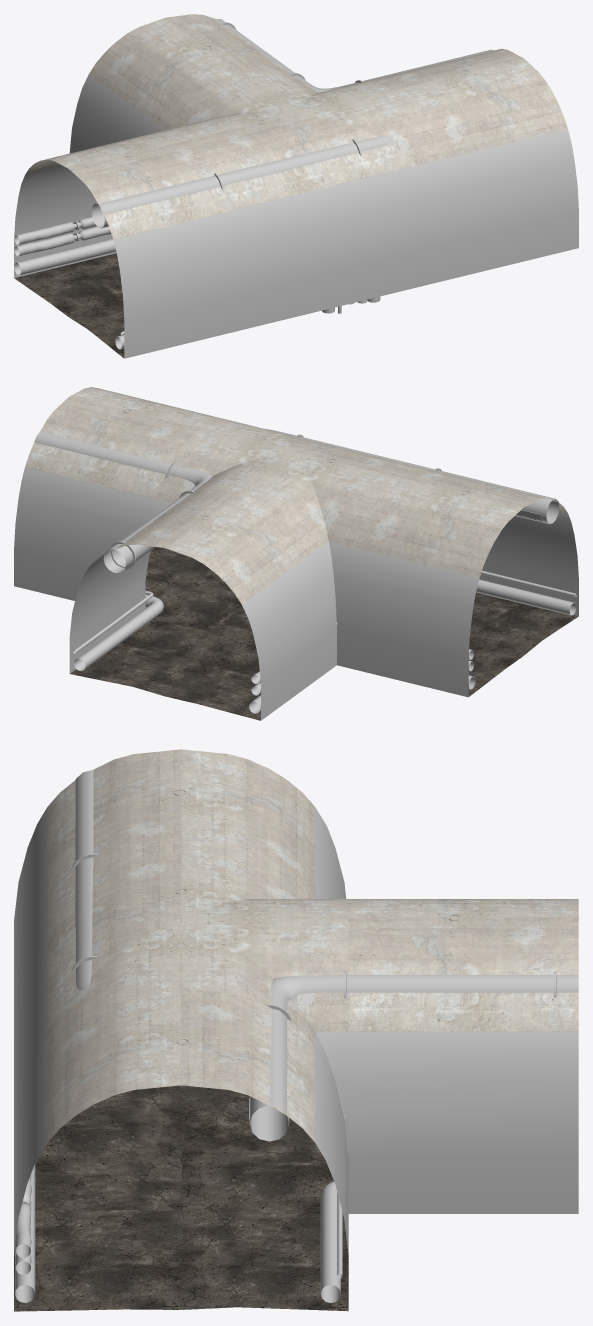
The model's file is Corridor_wall_con_T.FBX.
3 renders of one model, top to bottom at view 1: azimuth 30°, elevation 25°; view 2: azimuth 150°, elevation 25°; view 3: azimuth 270°, elevation 25°, orthographic. The views are drawn at different scales.
Visible parts, largest first — view 1: Corridor_wall_con_T, Corridor_floor_T, Tube_big_003, Tube_warm007, Tube012; view 2: Corridor_wall_con_T, Corridor_floor_T, Tube_big_003, Tube010, Tube009; view 3: Corridor_wall_con_T, Corridor_floor_T, Tube_big_003, Tube010, Tube_warm006, Tube009.
Boxes of the visible parts, x1,y1,x2,y2 form: Corridor_wall_con_T: (14, 14, 578, 358); Corridor_floor_T: (14, 253, 124, 358); Tube_big_003: (92, 19, 493, 228); Tube_warm007: (14, 216, 111, 256); Tube012: (14, 239, 116, 275); Corridor_wall_con_T: (14, 387, 578, 720); Corridor_floor_T: (70, 547, 578, 720); Tube_big_003: (34, 428, 559, 572); Tube010: (74, 594, 163, 670); Tube009: (476, 579, 576, 615); Corridor_wall_con_T: (14, 749, 578, 1254); Corridor_floor_T: (14, 1085, 348, 1311); Tube_big_003: (71, 770, 578, 1141); Tube010: (320, 1181, 340, 1302); Tube_warm006: (15, 1174, 31, 1274); Tube009: (15, 1163, 35, 1302).
Bounding box in the file's own units: 1189 × 398 × 845.
